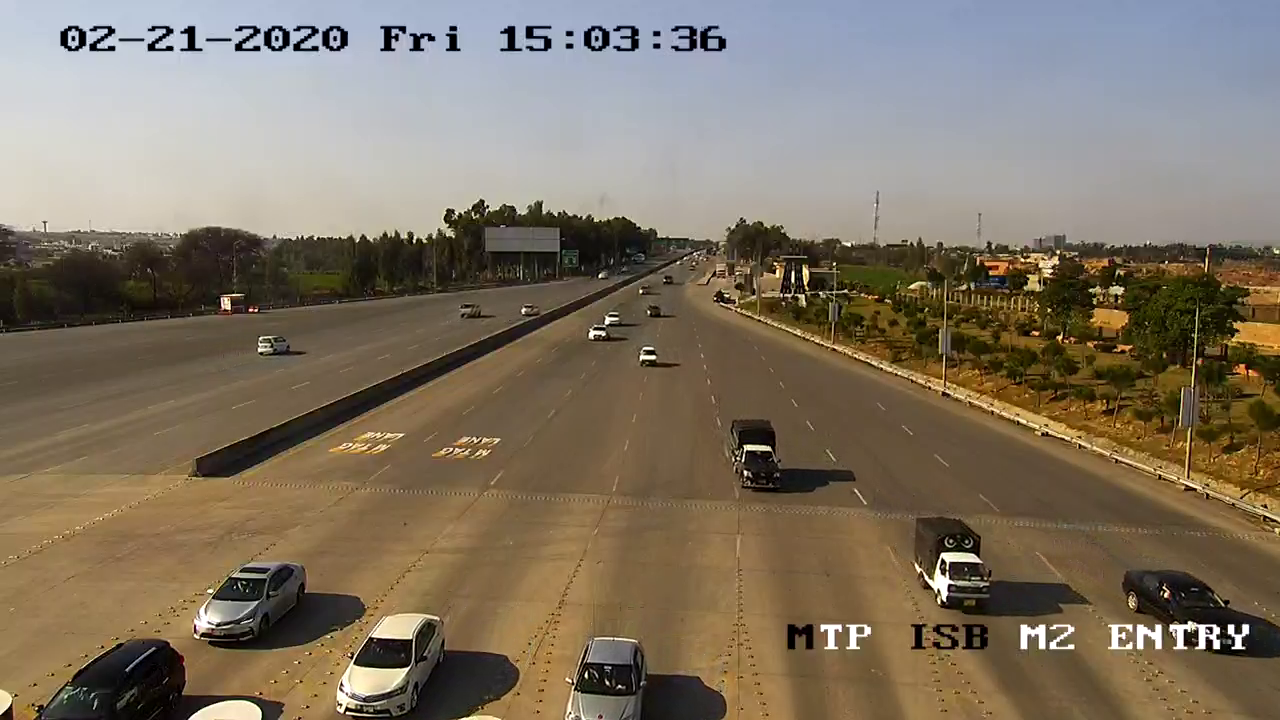f1: (329, 604, 452, 720), (889, 508, 1011, 617), (182, 555, 312, 651), (555, 628, 659, 720), (719, 411, 789, 500)
